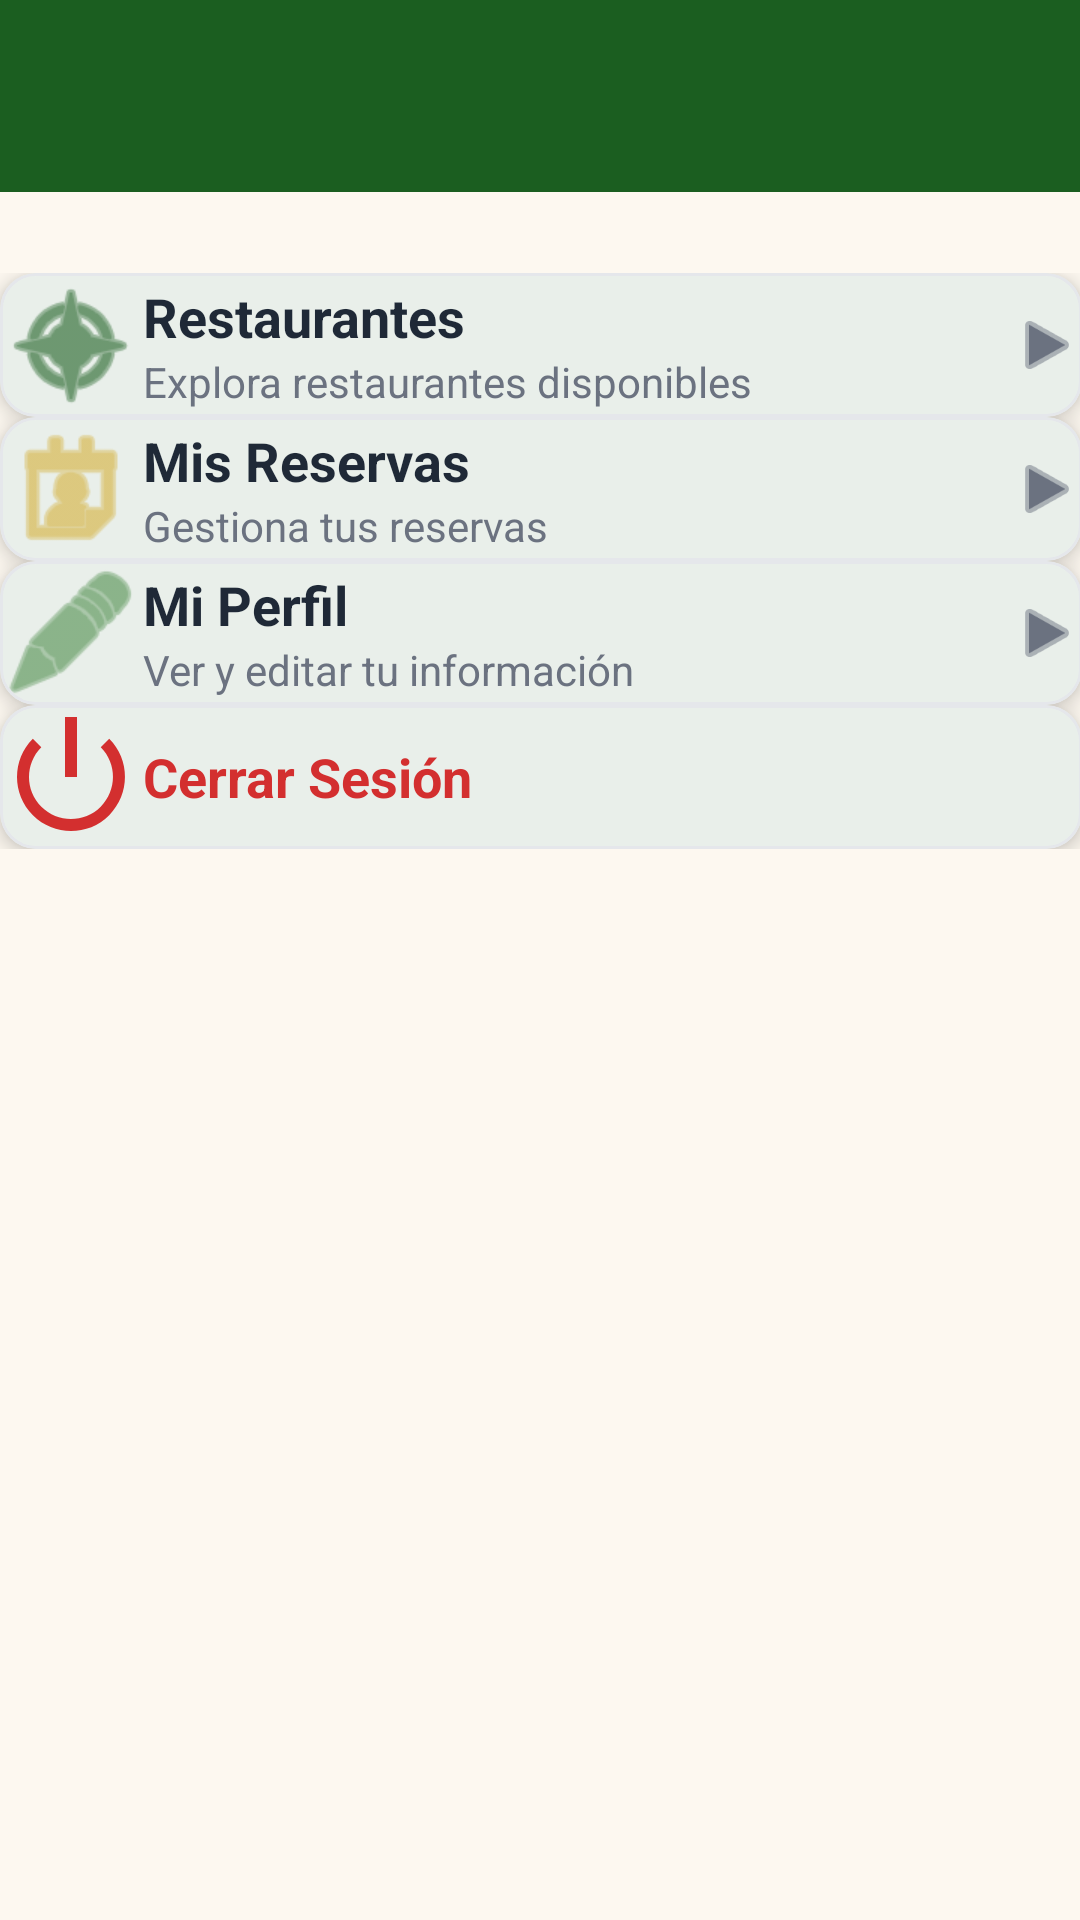

Where icons sit on this 1080px×1920px app screen, as (x1, y1, x2, y2):
play: (1025, 321, 1069, 369), (1025, 465, 1069, 513), (1025, 609, 1069, 657)
